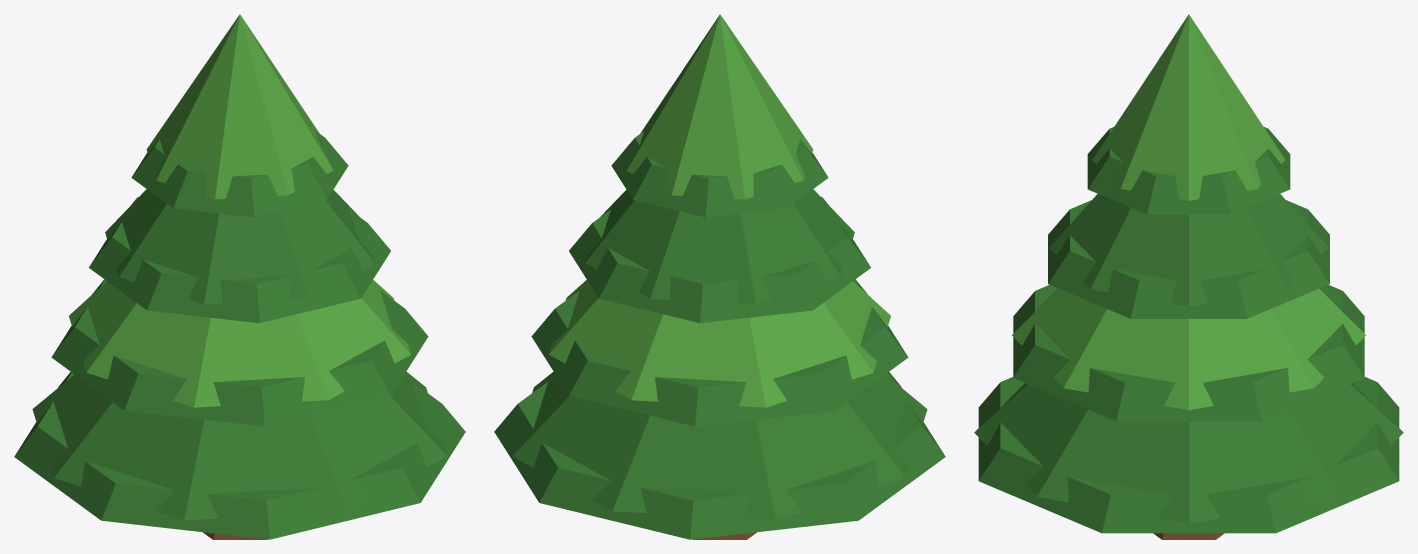
Rendered from tree_pine.fbx.
3 renders of one model, left to right at view 1: azimuth 30°, elevation 25°; view 2: azimuth 150°, elevation 25°; view 3: azimuth 270°, elevation 25°, orthographic.
Visible parts, largest first — view 1: tree_pine; view 2: tree_pine; view 3: tree_pine.
Boxes of the visible parts, box(x1,y1,x2,y2) form: tree_pine: box(14, 14, 465, 539); tree_pine: box(494, 14, 945, 539); tree_pine: box(974, 14, 1403, 539).
Bounding box in the file's own units: 0.4 × 0.52 × 0.4.
